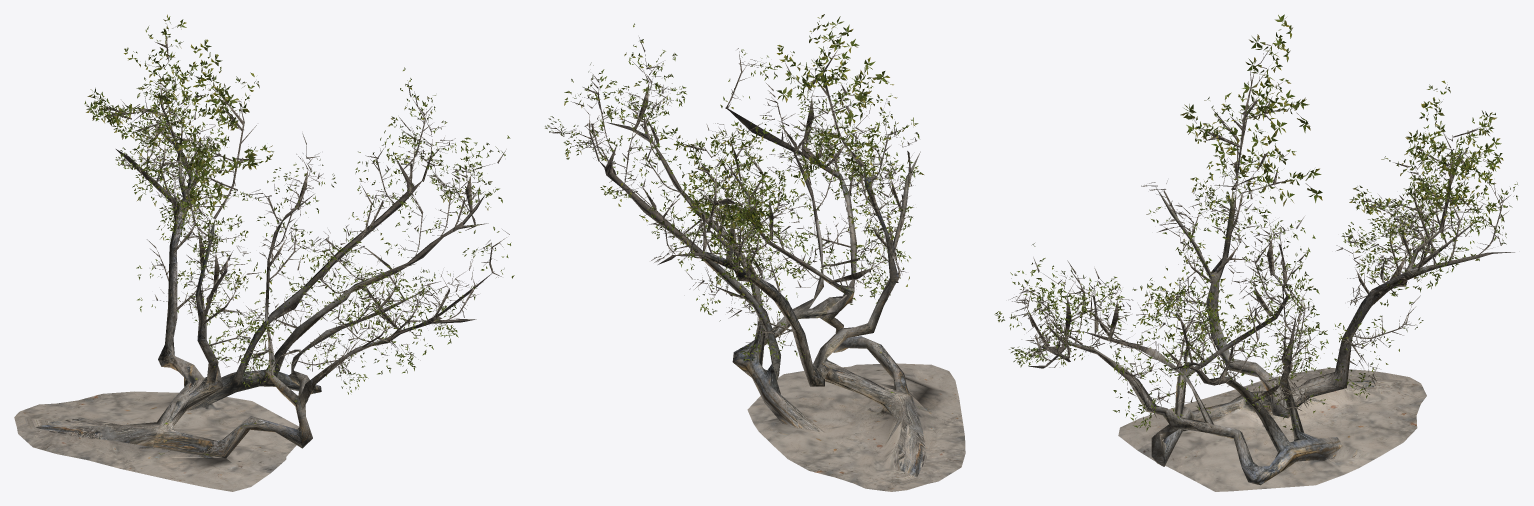
The model's file is island_tree_03.fbx.
The picture shows the model from 3 angles, left to right: view 1: azimuth 30°, elevation 25°; view 2: azimuth 150°, elevation 25°; view 3: azimuth 270°, elevation 25°; orthographic projection. The views are drawn at different scales.
Visible parts, largest first — view 1: island_tree_03_LOD0.001; view 2: island_tree_03_LOD0.001; view 3: island_tree_03_LOD0.001.
Part boxes in pixels (x1,y1,x2,y2): island_tree_03_LOD0.001: (14, 14, 514, 491); island_tree_03_LOD0.001: (545, 14, 965, 491); island_tree_03_LOD0.001: (994, 14, 1517, 491).
Bounding box in the file's own units: 296 × 261 × 287.
